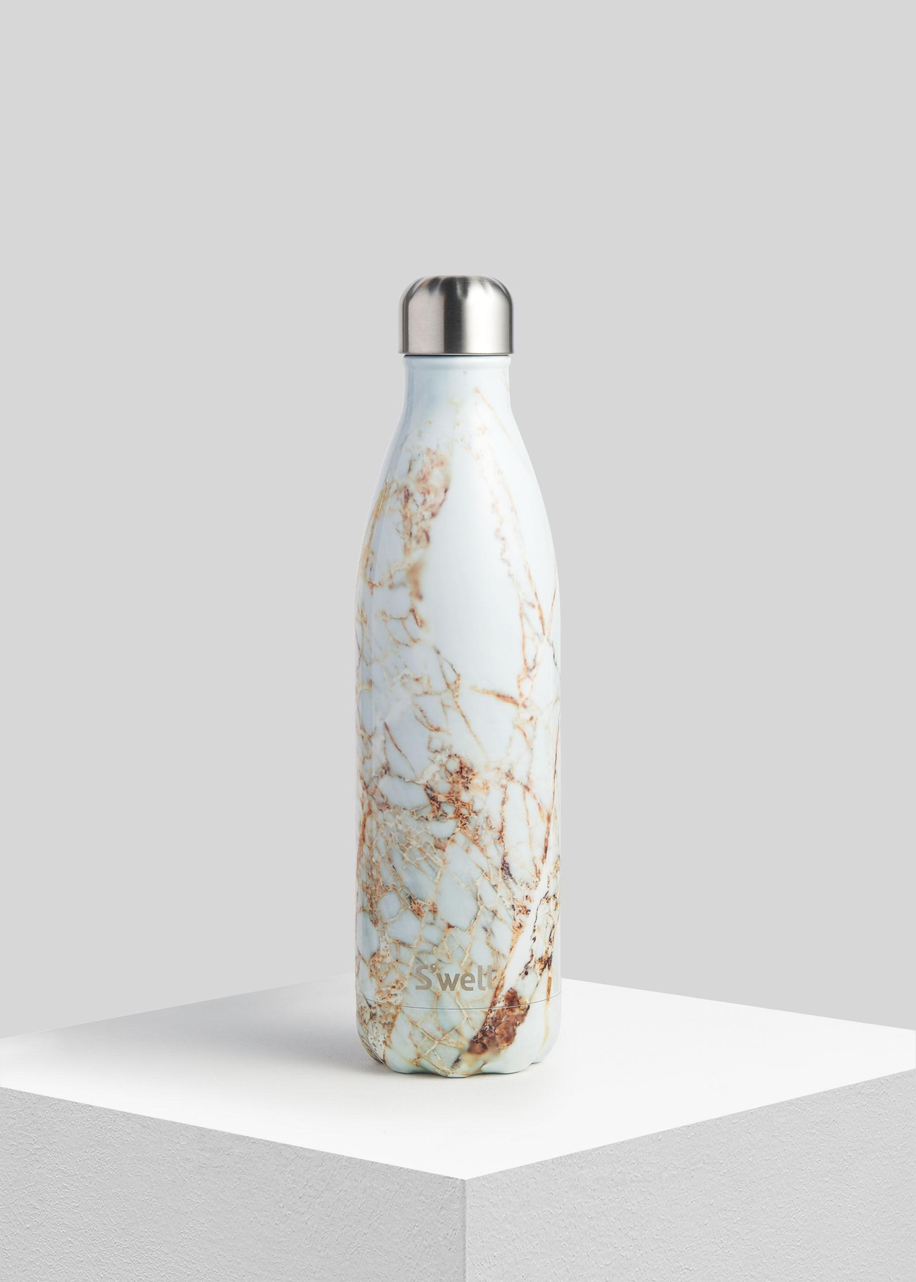gym bottle: (342, 276, 567, 1087)
